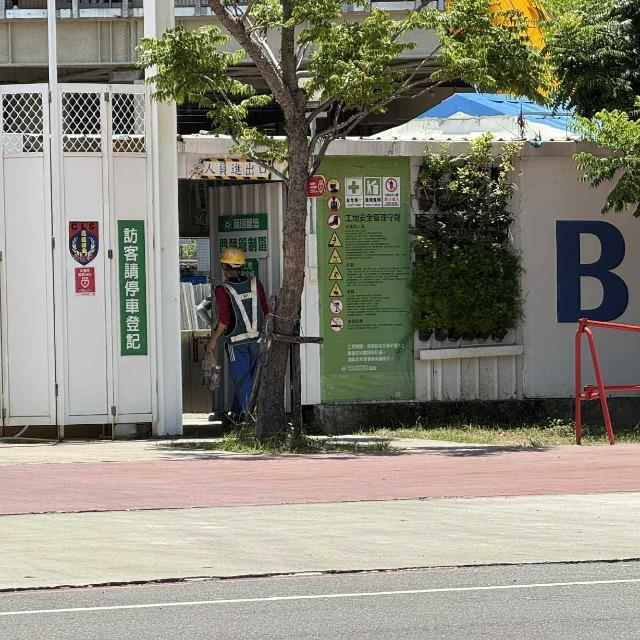Helmet: (216, 242, 253, 276)
Vest: (209, 275, 271, 351)
